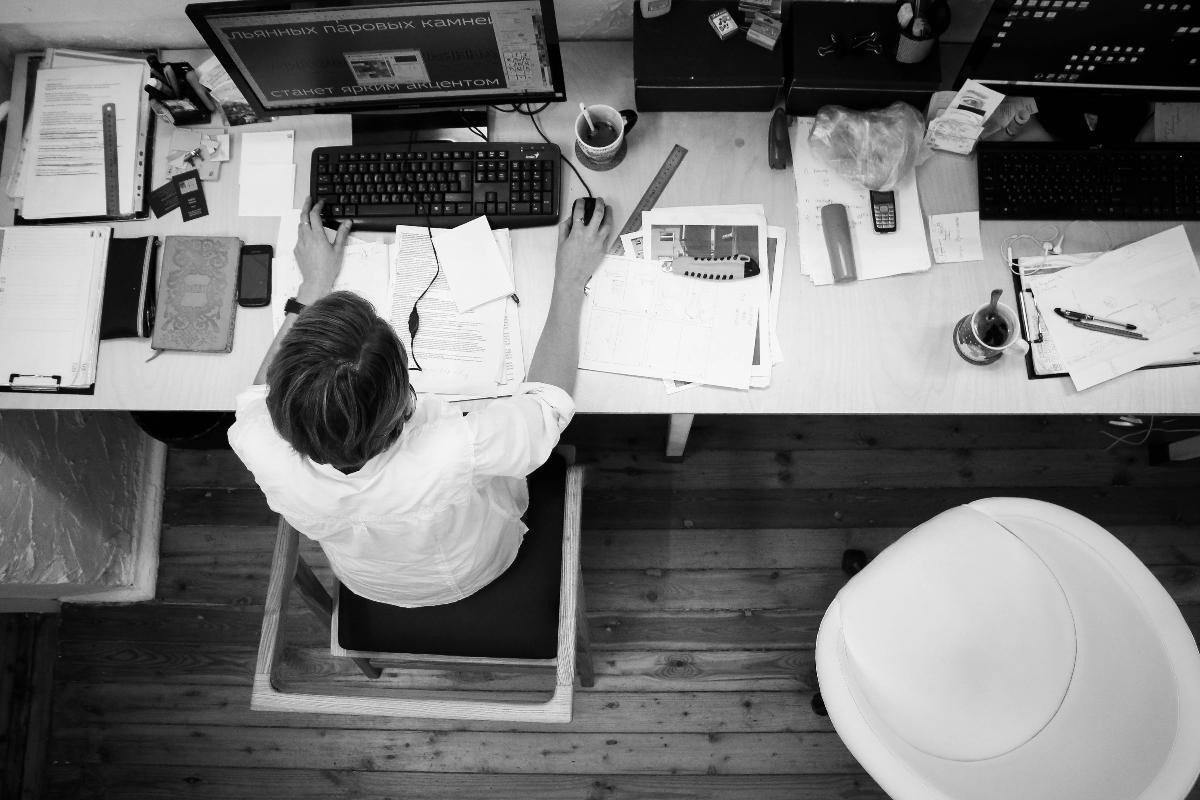Person: (216, 190, 602, 608)
